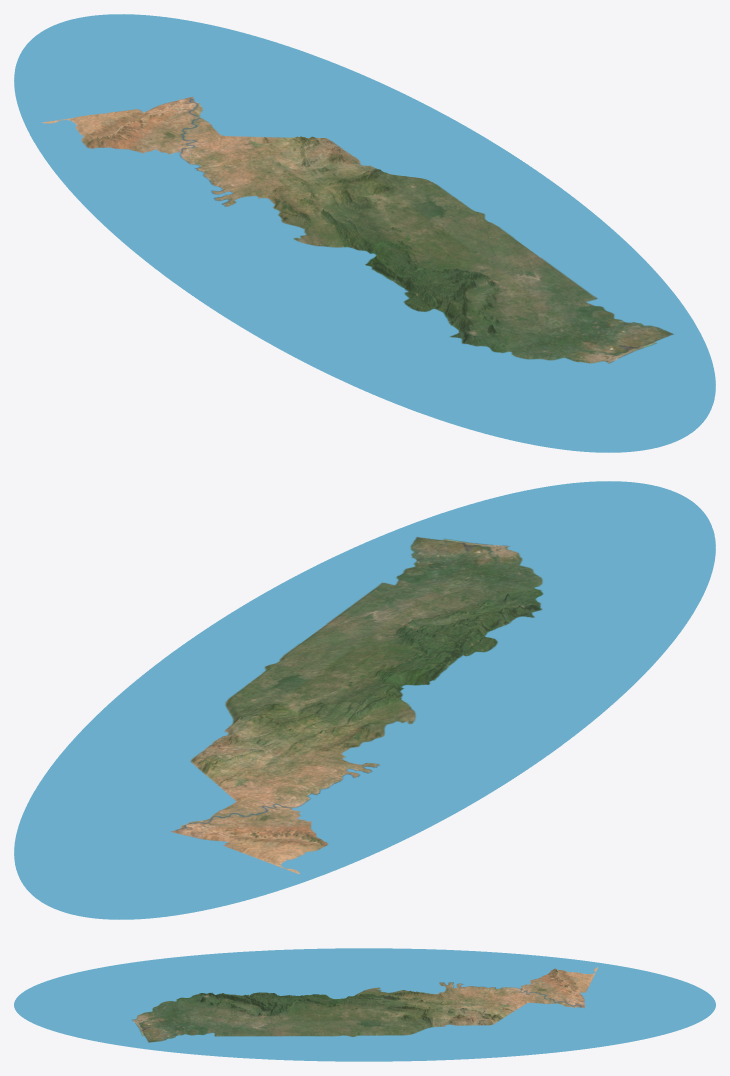
File: TGO-previa-terrain.glb
The picture shows the model from 3 angles, top to bottom: view 1: azimuth 30°, elevation 25°; view 2: azimuth 150°, elevation 25°; view 3: azimuth 270°, elevation 25°; orthographic projection. The views are drawn at different scales.
Parts seen in each view (by area): view 1: Togo; view 2: Togo; view 3: Togo.
Part boxes in pixels (x1,y1,x2,y2): Togo: [14, 14, 715, 452]; Togo: [14, 481, 715, 919]; Togo: [14, 948, 715, 1061].
Size of the model in its own units: 1.01 by 0.0265 by 2.65.
Materials: 1 (1 with a texture image).
